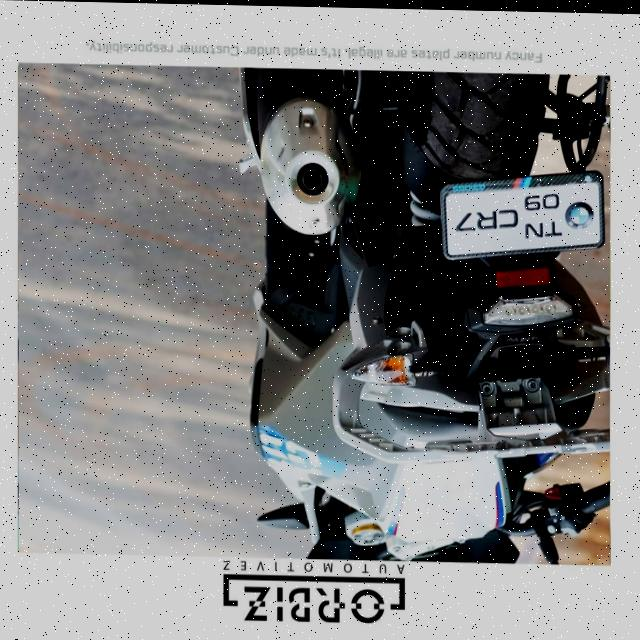plate: (439, 166, 606, 262)
